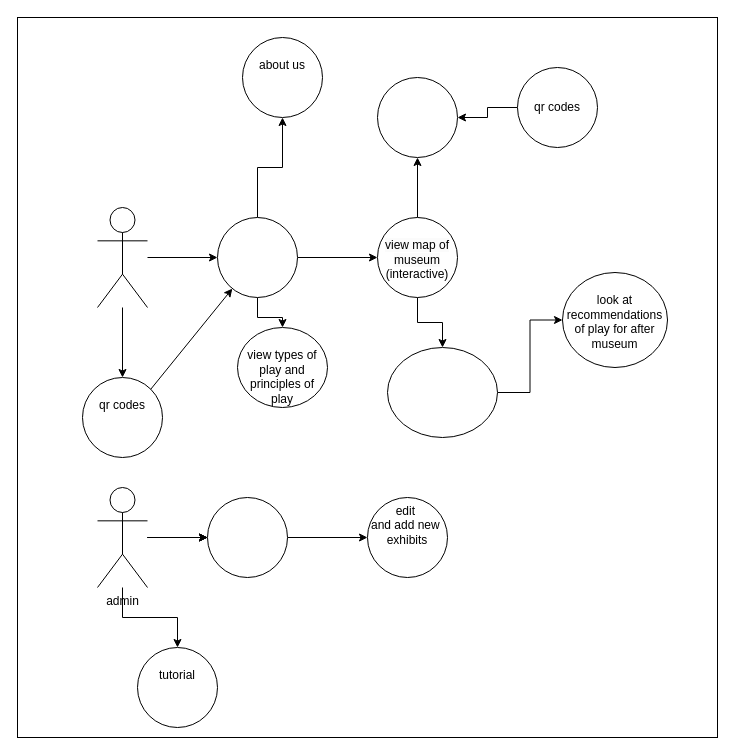
Image size: 735x755. Some labels were removed from this diagram. Each missing label, with the centre of its shape:
change exhibits: the point at 247,537
choose which type of play child did based on each exhibit: the point at 442,392
list of exhibits: the point at 417,117
parent: the point at 122,257
welcome page: the point at 257,257
